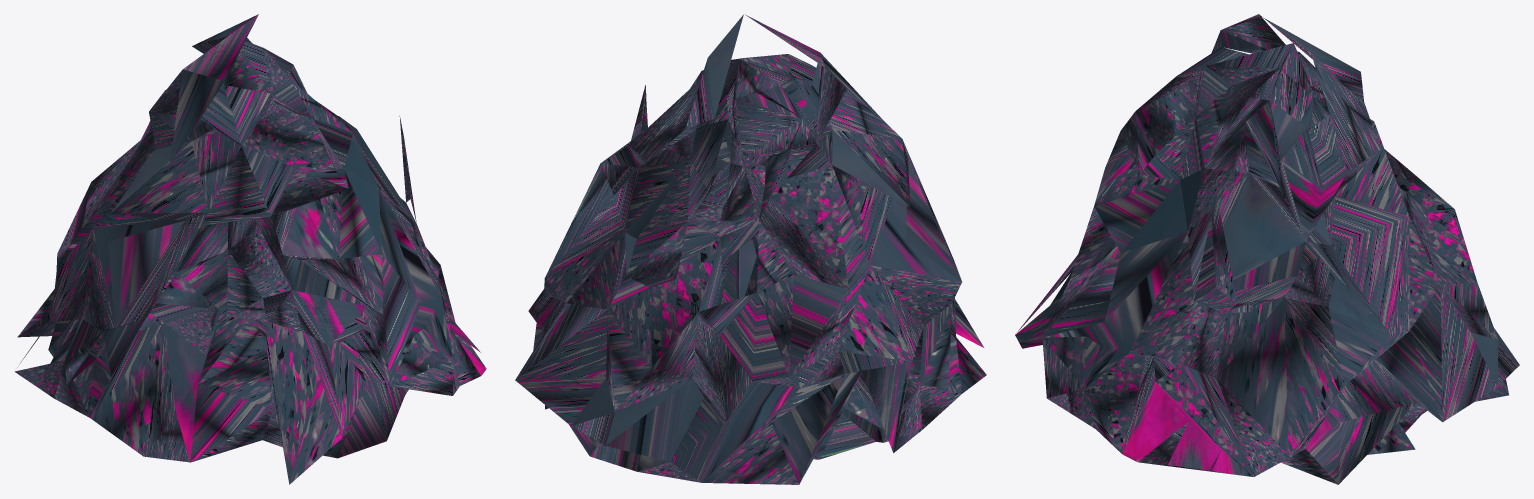
The model's file is cover_half_city_v6.glb.
The picture shows the model from 3 angles, left to right: view 1: azimuth 30°, elevation 25°; view 2: azimuth 150°, elevation 25°; view 3: azimuth 270°, elevation 25°; orthographic projection. The views are drawn at different scales.
Visible parts, largest first — view 1: Mesh_0; view 2: Mesh_0; view 3: Mesh_0.
Part boxes in pixels (bbox=[...]): Mesh_0: bbox=[14, 14, 486, 484]; Mesh_0: bbox=[515, 14, 986, 484]; Mesh_0: bbox=[1015, 14, 1519, 484].
Size of the model in its own units: 0.8909 by 0.8 by 0.96.
Materials: 1 (1 with a texture image).
